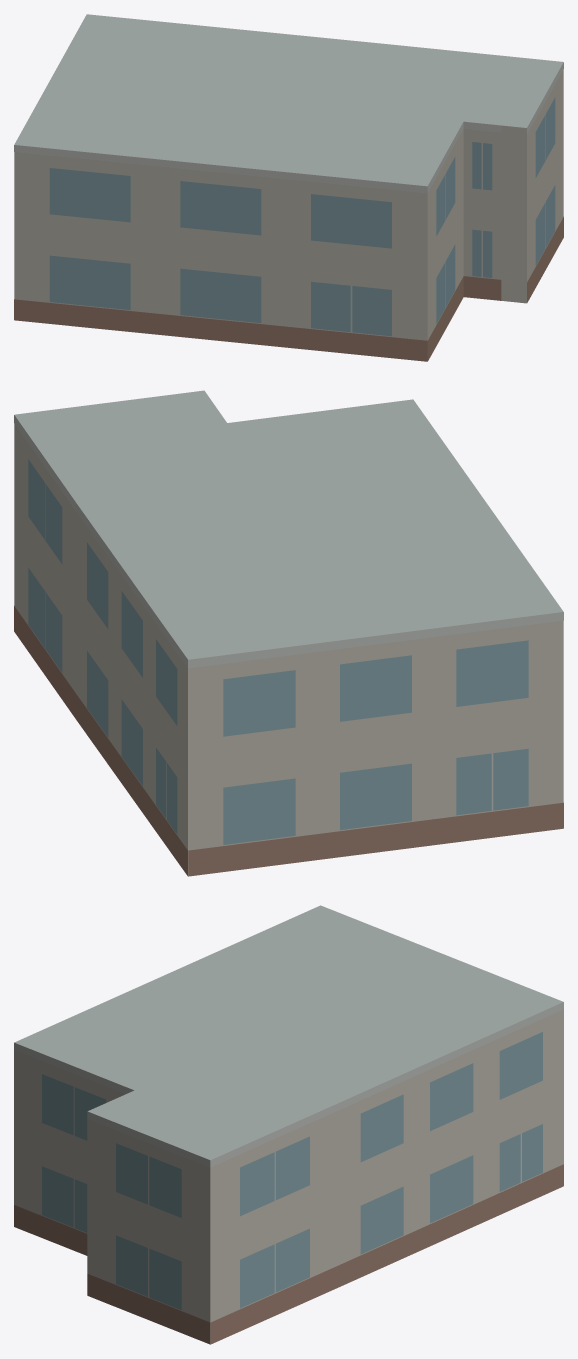
File: survey-upis-32775711.glb
The picture shows the model from 3 angles, top to bottom: view 1: azimuth 30°, elevation 25°; view 2: azimuth 150°, elevation 25°; view 3: azimuth 270°, elevation 25°; orthographic projection. The views are drawn at different scales.
Parts seen in each view (by area): view 1: survey-upis-32775711.tmp; view 2: survey-upis-32775711.tmp; view 3: survey-upis-32775711.tmp.
Part boxes in pixels (left/top/right/bottom): survey-upis-32775711.tmp: left=14, top=14, right=563, bottom=361; survey-upis-32775711.tmp: left=14, top=390, right=563, bottom=876; survey-upis-32775711.tmp: left=14, top=905, right=563, bottom=1344.
Size of the model in its own units: 18.11 by 6.1 by 16.5.
